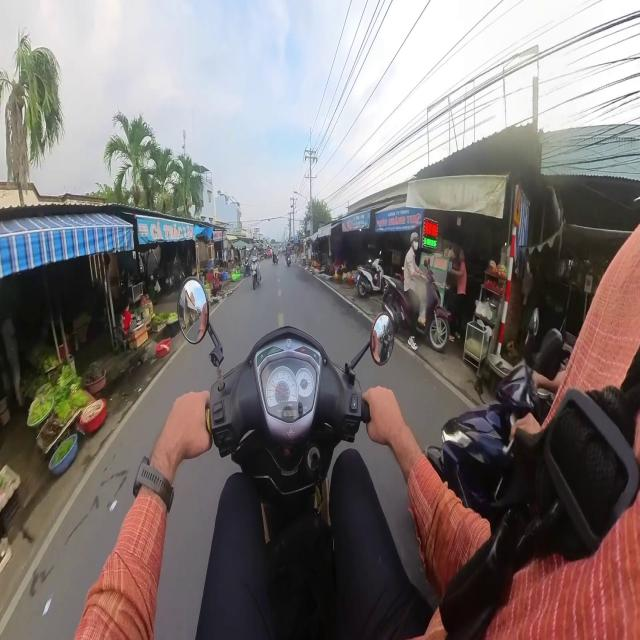motorcycle: (178, 278, 393, 622), (426, 310, 564, 519), (417, 264, 451, 351), (357, 258, 386, 296), (250, 255, 261, 289), (286, 254, 291, 266)
